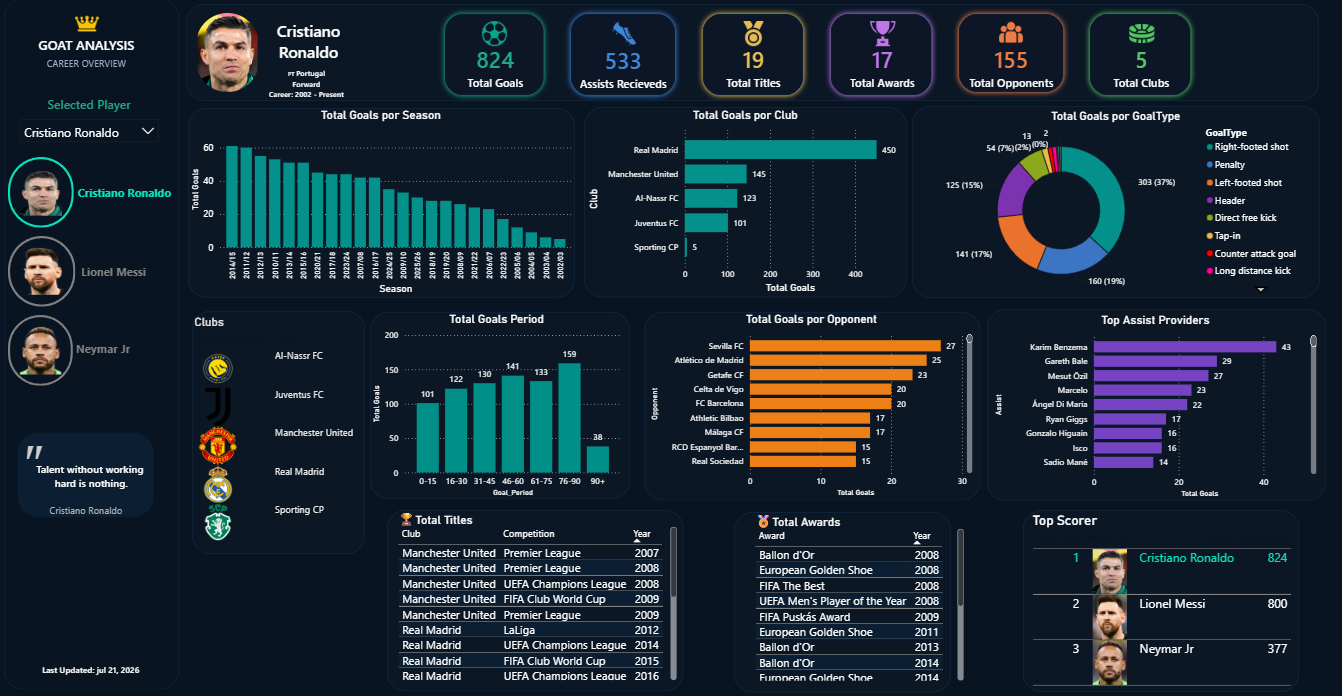

The dashboard page shown, as its layout file describes it:
{"tool":"powerbi","page":{"name":"Goat Analysis","canvas":[1923,1000],"ordinal":1},"visuals":[{"type":"shape","box":[267.1,7.1,1618.6,138.6],"z":0},{"type":"actionButton","box":[104.2,253.4,150,46.2],"z":0,"group":"g26"},{"type":"actionButton","box":[12.5,338.8,96.3,101],"z":0,"group":"g27"},{"type":"actionButton","box":[12.5,451.2,92.6,101.2],"z":0,"group":"g28"},{"type":"shape","box":[7.5,0,250,986.2],"z":1000},{"type":"actionButton","box":[12.3,226.2,93.9,101],"z":1000,"group":"g26"},{"type":"actionButton","box":[110,363.8,107.5,50],"z":1000,"group":"g27"},{"type":"actionButton","box":[104.4,472.1,88.8,53.8],"z":1000,"group":"g28"},{"type":"textbox","title":"GOAT ANALYSIS","box":[0,52.5,250,53],"z":2000,"group":"g13"},{"type":"slicer","title":"Selected Player","fields":{"Values":["Players.Player"]},"box":[20,138.8,217.5,72.5],"z":2000},{"type":"card","fields":{"Values":["Medidas DAX.Last Updated"]},"box":[28.8,947.5,205,27.5],"z":3000},{"type":"image","box":[282,20,90,113],"z":4000},{"type":"card","fields":{"Values":["Medidas DAX.Player Quote"]},"box":[42.2,649,181,65],"z":4000,"group":"g14"},{"type":"group","id":"g1","title":"Grupo 3","box":[616.5,12.5,184.2,133.3],"z":5000},{"type":"group","id":"g2","title":"Grupo 4","box":[800.7,12.5,184,133.3],"z":6000},{"type":"group","id":"g3","title":"Grupo 1","box":[616.5,12.5,184,133],"z":7000,"group":"g1"},{"type":"group","id":"g4","title":"Grupo 5","box":[985.7,12.5,184.2,133.3],"z":7000},{"type":"shape","box":[628.3,12.5,157.7,133],"z":8000,"group":"g3"},{"type":"group","id":"g5","title":"Grupo 2","box":[800.7,12.5,184.7,133],"z":8000,"group":"g2"},{"type":"group","id":"g6","title":"Grupo 6","box":[1169.8,12.5,184.2,133.3],"z":8000},{"type":"group","id":"g7","title":"Grupo 2","box":[985.7,12.5,184,133],"z":9000,"group":"g4"},{"type":"group","id":"g8","title":"Grupo 7","box":[1354,13.2,184.2,133.3],"z":9000},{"type":"cardVisual","title":"Total de Gols","fields":{"Data":["Medidas DAX.Total Goals"]},"box":[616.5,49.5,184,94],"z":9000,"group":"g3"},{"type":"shape","box":[809.8,12.5,165.5,133],"z":10000,"group":"g5"},{"type":"shape","box":[997,12.5,160.1,133],"z":10000,"group":"g7"},{"type":"group","id":"g9","title":"Grupo 2","box":[1169.8,12.5,184,133],"z":10000,"group":"g6"},{"type":"shape","box":[1180.5,12.5,160.3,133],"z":10000,"group":"g9"},{"type":"shape","box":[1363,13.2,166,128.2],"z":10000,"group":"g11"},{"type":"group","id":"g10","title":"Grupo 8","box":[1539.8,13.2,184.2,133.3],"z":10000},{"type":"shape","box":[1550.5,13.2,160.3,133],"z":10000,"group":"g12"},{"type":"group","id":"g11","title":"Grupo 2","box":[1354,13.2,184,133],"z":11000,"group":"g8"},{"type":"textbox","box":[372.5,23.8,138.8,63.8],"z":11000},{"type":"cardVisual","title":"Total de Gols","fields":{"Data":["Medidas DAX.Total Opponents"]},"box":[1354,47.9,184,98.3],"z":11000,"group":"g11"},{"type":"cardVisual","title":"Total de Gols","fields":{"Data":["Medidas DAX.Total Titles"]},"box":[985.7,49.5,184,94],"z":11000,"group":"g7"},{"type":"cardVisual","title":"Total de Gols","fields":{"Data":["Medidas DAX.Total Awards"]},"box":[1169.8,49.5,184,94],"z":11000,"group":"g9"},{"type":"cardVisual","title":"Total de Gols","fields":{"Data":["Medidas DAX.Total Clubs"]},"box":[1539.8,50.2,184,94],"z":11000,"group":"g12"},{"type":"cardVisual","title":"Total de Gols","fields":{"Data":["Medidas DAX.Total Assists"]},"box":[800.7,51.5,184.7,94],"z":11000,"group":"g5"},{"type":"shape","box":[26.2,619,196.2,122.5],"z":11500,"group":"g25"},{"type":"group","id":"g12","title":"Grupo 2","box":[1539.8,13.2,184,133],"z":12000,"group":"g10"},{"type":"group","id":"g13","title":"Grupo 10","box":[0,17.5,250,87.5],"z":12000},{"type":"group","id":"g14","title":"Grupo 9","box":[28,619.7,195.2,122.9],"z":12000,"group":"g25"},{"type":"image","box":[105,17.5,40,36],"z":13000,"group":"g13"},{"type":"image","box":[682,30.5,50.4,36],"z":13000,"group":"g1"},{"type":"group","id":"g15","title":"Grupo 11","box":[269,155,554,271],"z":13000},{"type":"image","box":[873.4,30.5,40.4,36],"z":13001,"group":"g2"},{"type":"textbox","title":"\"","box":[28,619.7,194.3,122.9],"z":13001,"group":"g14"},{"type":"image","box":[1052.5,30.5,50.4,36],"z":13002,"group":"g4"},{"type":"image","box":[1238.7,30.5,47.5,36],"z":13003,"group":"g6"},{"type":"image","box":[1426,30.5,40,34.7],"z":13004,"group":"g8"},{"type":"image","box":[1608.7,31.2,47.5,36],"z":13005,"group":"g10"},{"type":"shape","box":[835,154,461,272],"z":13500,"group":"g16"},{"type":"shape","box":[270,155,553,271],"z":13500,"group":"g15"},{"type":"group","id":"g16","title":"Grupo 12","box":[835,154,461,272],"z":14000},{"type":"columnChart","fields":{"Category":["Goals_Raw.Season"],"Y":["Medidas DAX.Total Goals"]},"box":[269,155,554,271],"z":14000,"group":"g15"},{"type":"barChart","fields":{"Category":["Goals_Raw.Club"],"Y":["Medidas DAX.Total Goals"]},"box":[835,155.4,461,269.1],"z":14000,"group":"g16"},{"type":"group","id":"g17","title":"Grupo 13","box":[1304.3,152.9,582.9,274.3],"z":15000},{"type":"shape","box":[1304.3,152.9,582.9,274.3],"z":15500,"group":"g17"},{"type":"donutChart","fields":{"Category":["Goals_Type.GoalType"],"Y":["Medidas DAX.Total Goals"]},"box":[1306.2,156.6,579.4,270.6],"z":16000,"group":"g17"},{"type":"group","id":"g18","title":"Grupo 14","box":[528.8,447.5,372.5,268.8],"z":16000},{"type":"shape","box":[274.4,446,247.3,347.3],"z":16500,"group":"g23"},{"type":"group","id":"g19","title":"Grupo 15","box":[921.2,447.5,481.2,268.8],"z":17000},{"type":"tableEx","title":"Clubs","fields":{"Values":["Clubs.Club_Image_URL","Goals_Raw.Club"]},"box":[273.6,451.8,248.2,342.7],"z":17000,"group":"g23"},{"type":"shape","box":[529.7,447.5,371.3,267.3],"z":17500,"group":"g18"},{"type":"shape","box":[921.2,447.5,480.9,269.1],"z":17503,"group":"g19"},{"type":"shape","box":[1412.2,451.4,483.8,266.2],"z":17503,"group":"g24"},{"type":"columnChart","title":"Total Goals Period","fields":{"Category":["Goals_Raw.Goal_Period"],"Y":["Medidas DAX.Total Goals"]},"box":[528.8,447.7,364.8,268.4],"z":18000,"group":"g18"},{"type":"group","id":"g20","title":"Grupo 16","box":[554.7,730,423.6,259.1],"z":18000},{"type":"clusteredBarChart","fields":{"Category":["Goals_Raw.Opponent"],"Y":["Medidas DAX.Total Goals"]},"box":[926.1,447.7,470,268.2],"z":18003,"group":"g19"},{"type":"clusteredBarChart","title":"Top Assist Providers","fields":{"Category":["Goals_Raw.Assist"],"Y":["Medidas DAX.Total Goals"]},"box":[1417.4,448.6,470,268.1],"z":18003,"group":"g24"},{"type":"group","id":"g21","title":"Grupo 17","box":[1050.4,732.9,333.4,258.3],"z":19000},{"type":"shape","box":[554.7,730,423.6,259.1],"z":19500,"group":"g20"},{"type":"tableEx","title":"🏆Total Titles","fields":{"Values":["Titles.Club","Titles.Competition","Titles.Year"]},"box":[564.8,730,409.1,247.6],"z":20000,"group":"g20"},{"type":"group","id":"g22","title":"Grupo 17","box":[1463.5,730,402.5,260],"z":20000},{"type":"shape","box":[1463.5,730,394.6,260],"z":20500,"group":"g22"},{"type":"shape","box":[1050.4,733.4,310.2,257.8],"z":20500,"group":"g21"},{"type":"group","id":"g23","title":"Grupo 18","box":[273.6,446,248.2,348.5],"z":21000},{"type":"group","id":"g24","title":"Grupo 15","box":[1412.2,448.6,483.8,268.9],"z":22000},{"type":"tableEx","title":"   Top Scorer","fields":{"Values":["Medidas DAX.Goal Rank","Players.Image_URL","Players.Player","Medidas DAX.Total Goals"]},"box":[1471.5,732.5,394.5,256.4],"z":22000,"group":"g22"},{"type":"tableEx","title":"🏅Total Awards","fields":{"Values":["Awards.Award","Awards.Year"]},"box":[1075.2,732.9,308.7,246.5],"z":22000,"group":"g21"},{"type":"group","id":"g25","title":"Grupo 19","box":[26.2,619,197.5,122.5],"z":23000},{"type":"group","id":"g26","title":"Grupo 1","box":[12.3,226.2,241.9,101],"z":24000},{"type":"group","id":"g27","title":"Grupo 2","box":[12.5,338.8,205,101],"z":25000},{"type":"group","id":"g28","title":"Grupo 3","box":[12.5,451.2,181.2,101.2],"z":26000}]}

Visuals, with their boxes in screenshot pixels (x1, y1, x2, y2), scaled from the page's 1923x1000 canvas onto the 1342x696 screenshot:
shape: [186, 5, 1316, 101]
actionButton: [73, 176, 177, 209]
actionButton: [9, 236, 76, 306]
actionButton: [9, 314, 73, 384]
shape: [5, 0, 180, 686]
actionButton: [9, 157, 74, 228]
actionButton: [77, 253, 152, 288]
actionButton: [73, 329, 135, 366]
"GOAT ANALYSIS" textbox: [0, 37, 174, 73]
"Selected Player" slicer: [14, 97, 166, 147]
card - Medidas DAX.Last Updated: [20, 659, 163, 679]
image: [197, 14, 260, 93]
card - Medidas DAX.Player Quote: [29, 452, 156, 497]
"Grupo 3" group: [430, 9, 559, 101]
"Grupo 4" group: [559, 9, 687, 101]
"Grupo 1" group: [430, 9, 559, 101]
"Grupo 5" group: [688, 9, 816, 101]
shape: [438, 9, 549, 101]
"Grupo 2" group: [559, 9, 688, 101]
"Grupo 6" group: [816, 9, 945, 101]
"Grupo 2" group: [688, 9, 816, 101]
"Grupo 7" group: [945, 9, 1073, 102]
"Total de Gols" cardVisual: [430, 34, 559, 100]
shape: [565, 9, 681, 101]
shape: [696, 9, 808, 101]
"Grupo 2" group: [816, 9, 945, 101]
shape: [824, 9, 936, 101]
shape: [951, 9, 1067, 98]
"Grupo 8" group: [1075, 9, 1203, 102]
shape: [1082, 9, 1194, 102]
"Grupo 2" group: [945, 9, 1073, 102]
textbox: [260, 17, 357, 61]
"Total de Gols" cardVisual: [945, 33, 1073, 102]
"Total de Gols" cardVisual: [688, 34, 816, 100]
"Total de Gols" cardVisual: [816, 34, 945, 100]
"Total de Gols" cardVisual: [1075, 35, 1203, 100]
"Total de Gols" cardVisual: [559, 36, 688, 101]
shape: [18, 431, 155, 516]
"Grupo 2" group: [1075, 9, 1203, 102]
"Grupo 10" group: [0, 12, 174, 73]
"Grupo 9" group: [20, 431, 156, 517]
image: [73, 12, 101, 37]
image: [476, 21, 511, 46]
"Grupo 11" group: [188, 108, 574, 296]
image: [610, 21, 638, 46]
""" textbox: [20, 431, 155, 517]
image: [735, 21, 770, 46]
image: [864, 21, 898, 46]
image: [995, 21, 1023, 45]
image: [1123, 22, 1156, 47]
shape: [583, 107, 904, 296]
shape: [188, 108, 574, 296]
"Grupo 12" group: [583, 107, 904, 296]
columnChart - Goals_Raw.Season x Medidas DAX.Total Goals: [188, 108, 574, 296]
barChart - Goals_Raw.Club x Medidas DAX.Total Goals: [583, 108, 904, 295]
"Grupo 13" group: [910, 106, 1317, 297]
shape: [910, 106, 1317, 297]
donutChart - Goals_Type.GoalType x Medidas DAX.Total Goals: [912, 109, 1316, 297]
"Grupo 14" group: [369, 311, 629, 499]
shape: [191, 310, 364, 552]
"Grupo 15" group: [643, 311, 979, 499]
"Clubs" tableEx: [191, 314, 364, 553]
shape: [370, 311, 629, 498]
shape: [643, 311, 978, 499]
shape: [986, 314, 1323, 499]
"Total Goals Period" columnChart: [369, 312, 624, 498]
"Grupo 16" group: [387, 508, 683, 688]
clusteredBarChart - Goals_Raw.Opponent x Medidas DAX.Total Goals: [646, 312, 974, 498]
"Top Assist Providers" clusteredBarChart: [989, 312, 1317, 499]
"Grupo 17" group: [733, 510, 966, 690]
shape: [387, 508, 683, 688]
"🏆Total Titles" tableEx: [394, 508, 680, 680]
"Grupo 17" group: [1021, 508, 1302, 689]
shape: [1021, 508, 1297, 689]
shape: [733, 510, 950, 690]
"Grupo 18" group: [191, 310, 364, 553]
"Grupo 15" group: [986, 312, 1323, 499]
"   Top Scorer" tableEx: [1027, 510, 1302, 688]
"🏅Total Awards" tableEx: [750, 510, 966, 682]
"Grupo 19" group: [18, 431, 156, 516]
"Grupo 1" group: [9, 157, 177, 228]
"Grupo 2" group: [9, 236, 152, 306]
"Grupo 3" group: [9, 314, 135, 384]
